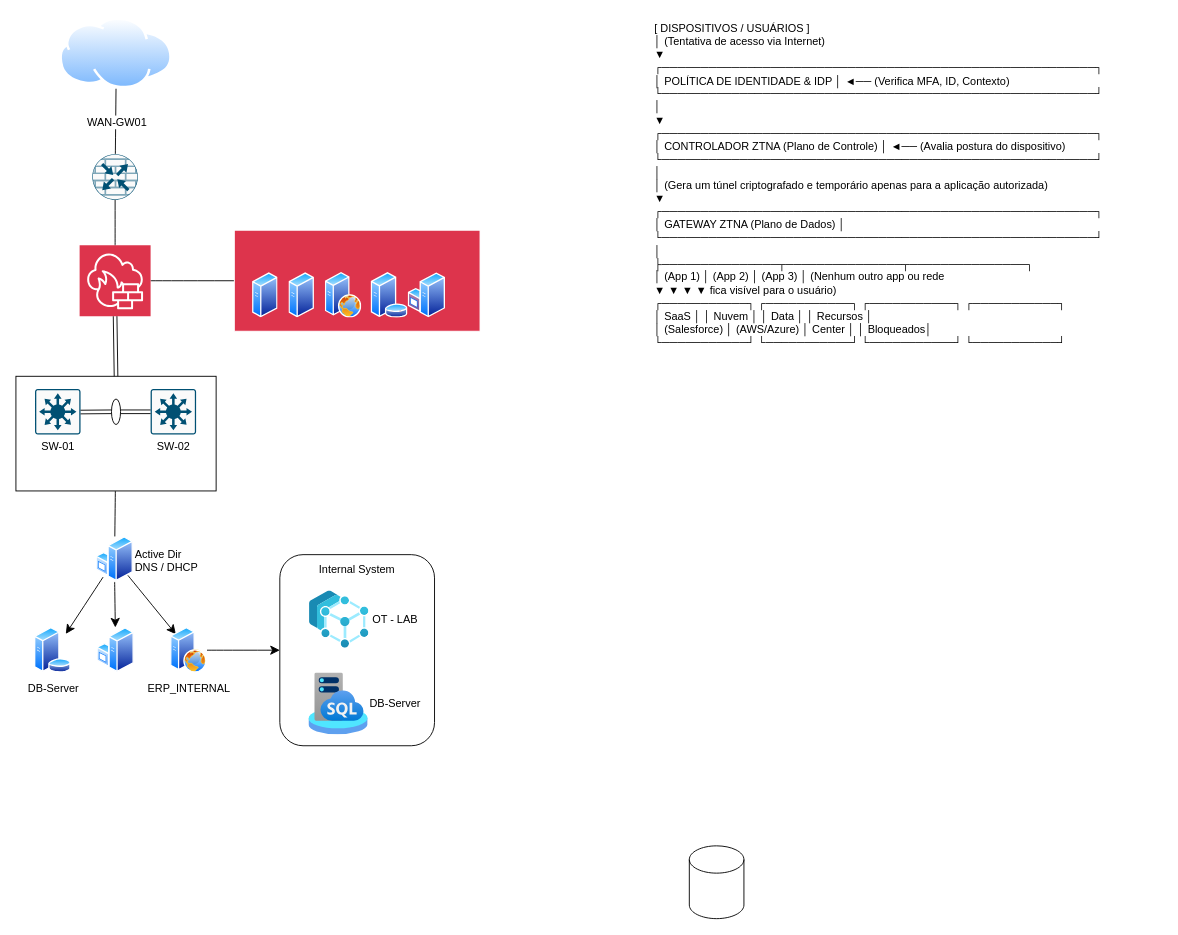
Image size: 1178x935. Some labels were removed from this diagram. Here are the shapes that lost their labels. From the top down, the box of each, then its label:
(91, 153, 138, 200): R1 - SDA1
(233, 229, 480, 331): DMZ - ZONE -TG 001
(15, 375, 216, 491): HA / HSRP / LACP - BORDER NET
(96, 627, 134, 672): FileServer
